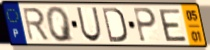D: (101, 6, 129, 44)
E: (157, 8, 189, 43)
P: (132, 6, 158, 44)
Q: (45, 5, 76, 44)
R: (21, 6, 51, 42)
U: (75, 6, 103, 43)
